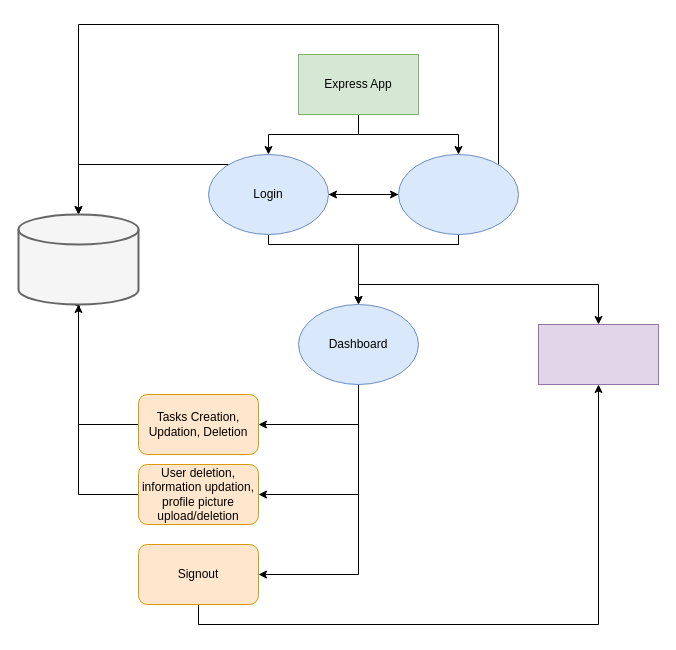
Some shapes in this 676 by 650 pixel diagram are drawn without their labels. Each missing label, with the centre of its shape:
Browser Cookie - Login Session: (598,354)
Register: (458,194)
Users Collection & Tasks Collection: (78,259)
